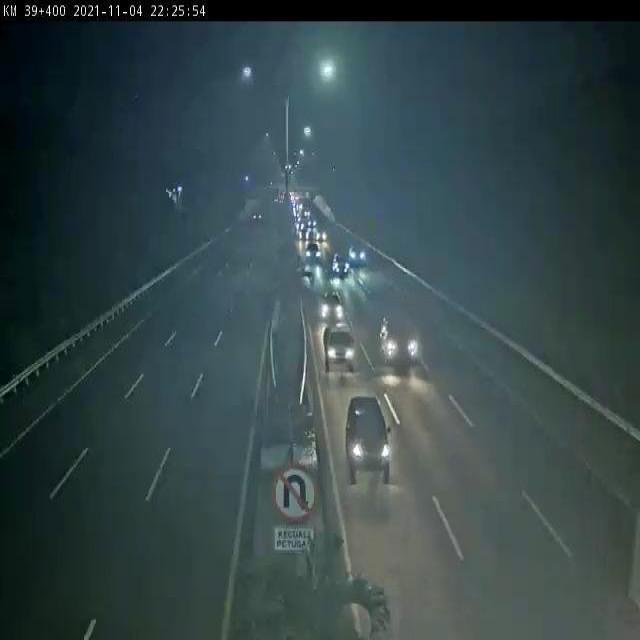car: (336, 393, 395, 483), (375, 307, 430, 380), (319, 325, 363, 383), (315, 290, 351, 326)
